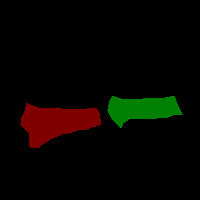mutande: (20, 102, 101, 148), (107, 95, 183, 128)
